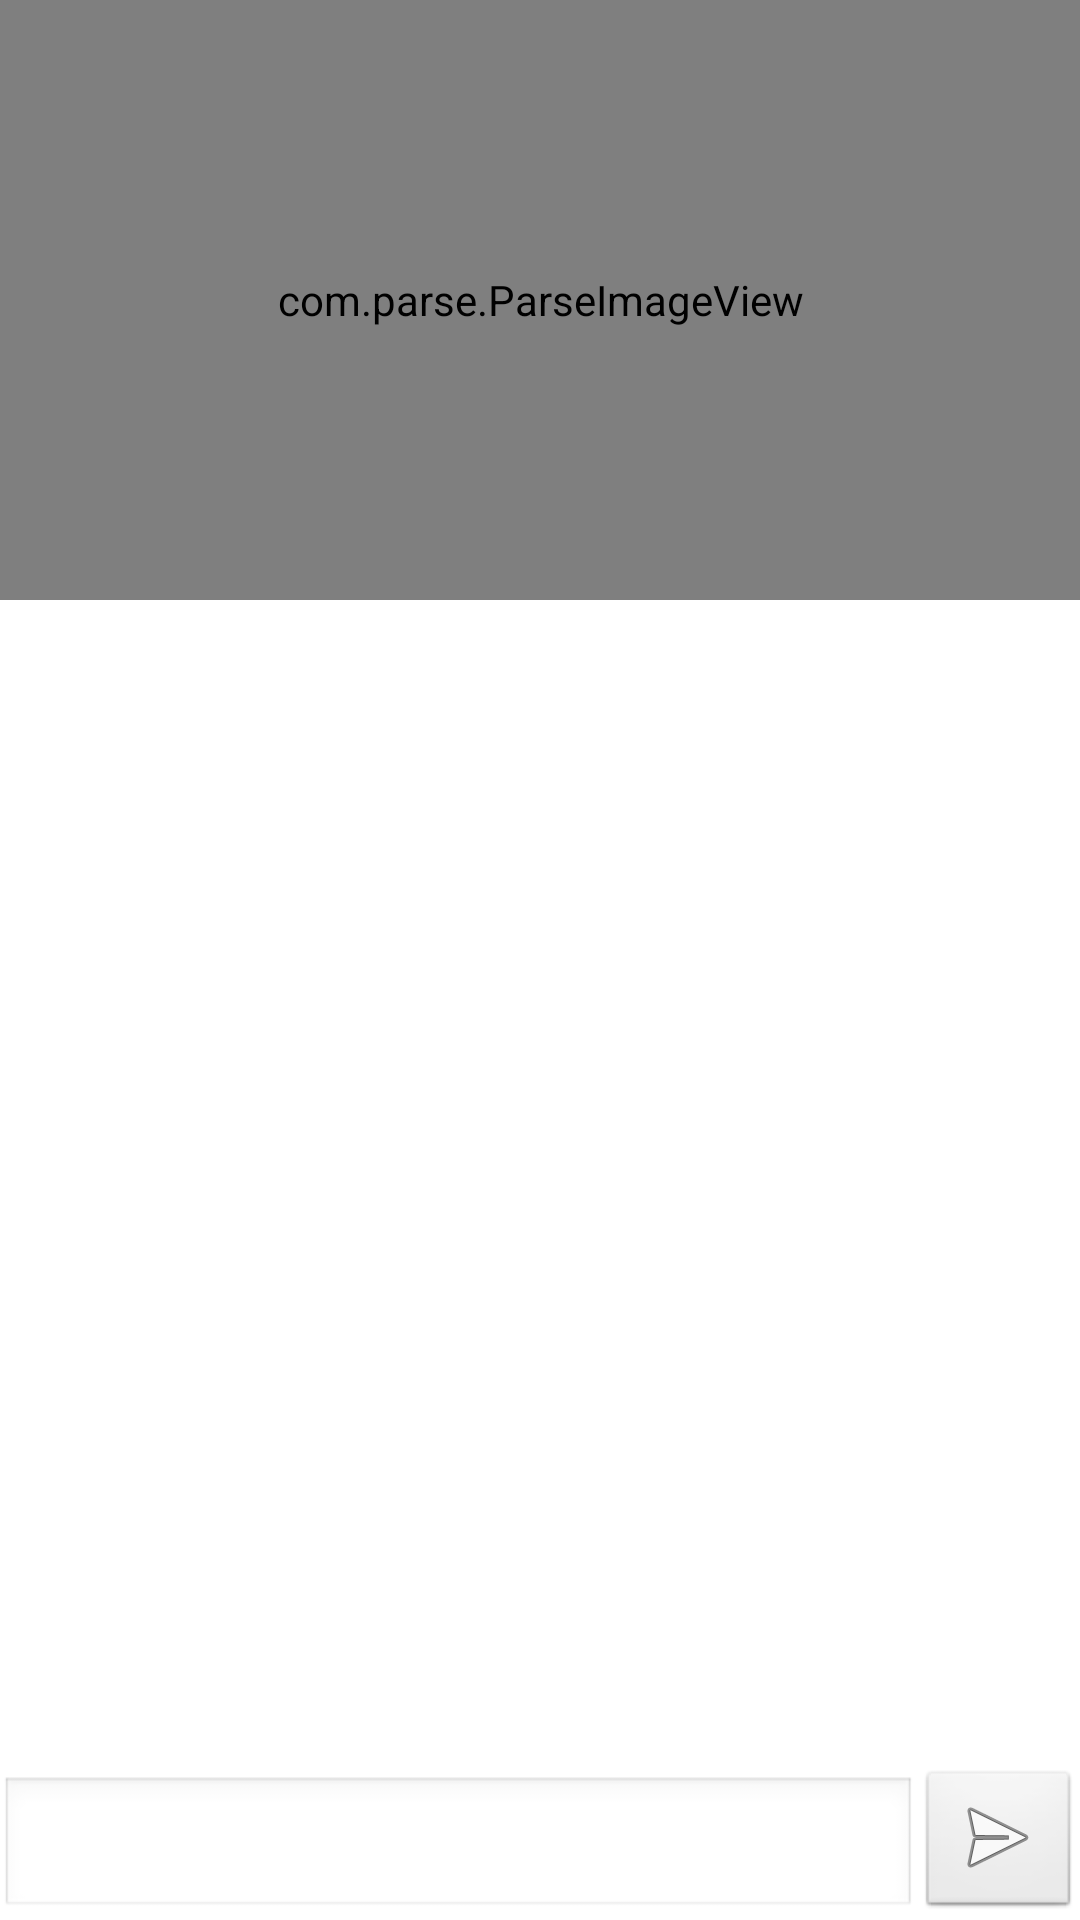

Screen size 1080px x 1920px. Icon name, then its center in pixels as (x=x, y=y):
Send: (x=998, y=1839)
